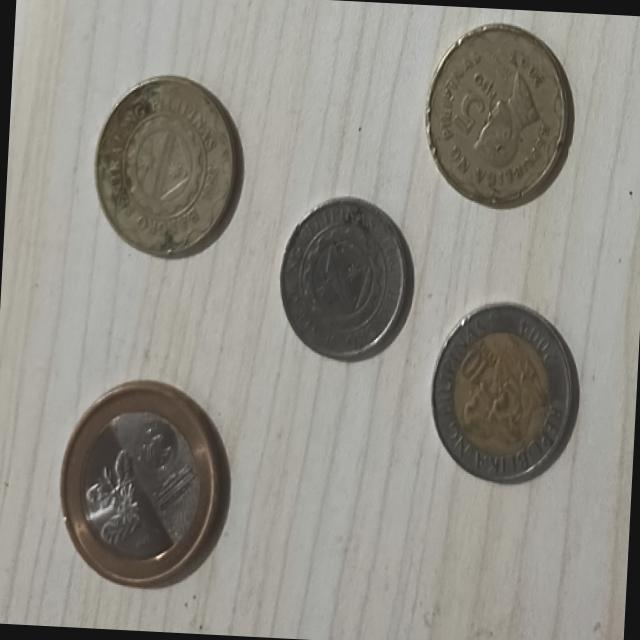10_peso: (432, 304, 577, 482)
1_peso: (280, 198, 406, 359)
20_peso: (61, 382, 229, 587)
5_peso: (425, 26, 571, 205), (96, 78, 237, 256)
